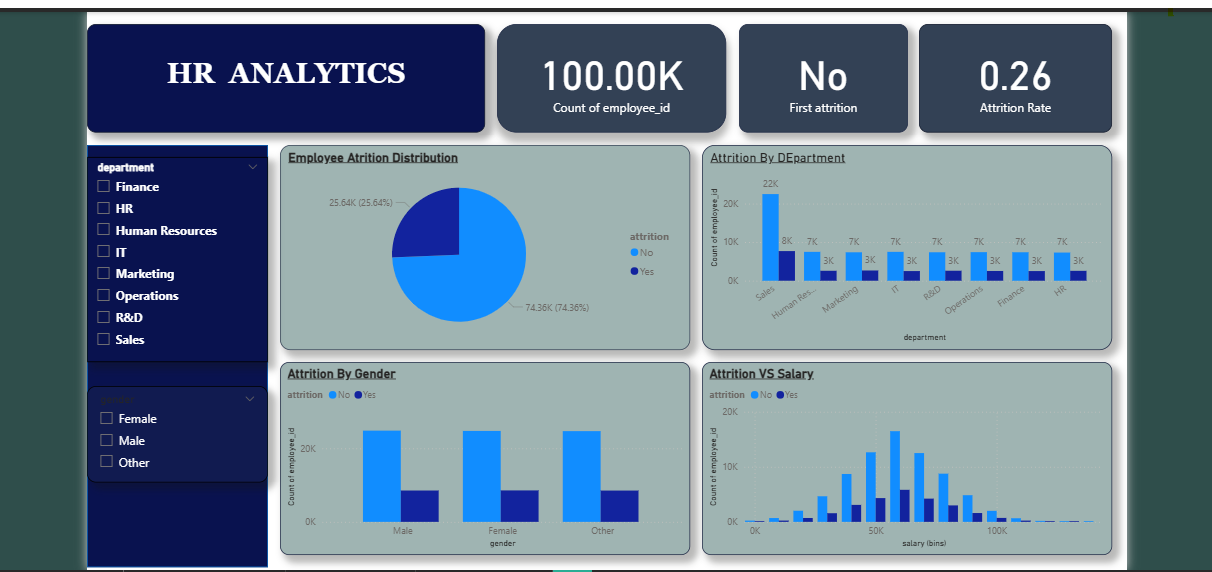

The page's visual inventory and layout, read from the dashboard file:
{"tool":"powerbi","page":{"name":"HR Analytics overview","canvas":[1280,720],"ordinal":0},"visuals":[{"type":"card","fields":{"Values":["CountNonNull(clean_hr_attrition_dataset_12.employee_id)"]},"box":[64,0,368,144],"z":0},{"type":"card","fields":{"Values":["Min(clean_hr_attrition_dataset_12.attrition)"]},"box":[496,0,336,144],"z":1000},{"type":"card","fields":{"Values":["clean_hr_attrition_dataset_12.Attrition Rate"]},"box":[896,0,336,144],"z":2000},{"type":"pieChart","title":"Employee Atrition Distribution","fields":{"Category":["clean_hr_attrition_dataset_12.attrition"],"Y":["CountNonNull(clean_hr_attrition_dataset_12.employee_id)"]},"box":[64,160,528,288],"z":3000},{"type":"treemap","title":"Attrition By DEpartment","fields":{"Group":["clean_hr_attrition_dataset_12.department"],"Details":["clean_hr_attrition_dataset_12.attrition"],"Values":["CountNonNull(clean_hr_attrition_dataset_12.employee_id)"]},"box":[688,160,544,288],"z":4000},{"type":"clusteredColumnChart","title":"Attrition By Gender","fields":{"Category":["clean_hr_attrition_dataset_12.gender"],"Y":["CountNonNull(clean_hr_attrition_dataset_12.employee_id)"],"Series":["clean_hr_attrition_dataset_12.attrition"]},"box":[64,464,528,256],"z":5000},{"type":"slicer","fields":{"Values":["clean_hr_attrition_dataset_12.department"]},"box":[688,464,544,256],"z":6000}]}

Visuals, with their boxes on the page's 1280x720 design canvas (x1, y1, x2, y2). These are canvas units, not pixel positions in the 1212x572 screenshot, which may show the page scaled, cropped or inside an application window:
card - CountNonNull(clean_hr_attrition_dataset_12.employee_id): pyautogui.locateOnScreen(64, 0, 432, 144)
card - Min(clean_hr_attrition_dataset_12.attrition): pyautogui.locateOnScreen(496, 0, 832, 144)
card - clean_hr_attrition_dataset_12.Attrition Rate: pyautogui.locateOnScreen(896, 0, 1232, 144)
"Employee Atrition Distribution" pieChart: pyautogui.locateOnScreen(64, 160, 592, 448)
"Attrition By DEpartment" treemap: pyautogui.locateOnScreen(688, 160, 1232, 448)
"Attrition By Gender" clusteredColumnChart: pyautogui.locateOnScreen(64, 464, 592, 720)
slicer - clean_hr_attrition_dataset_12.department: pyautogui.locateOnScreen(688, 464, 1232, 720)
